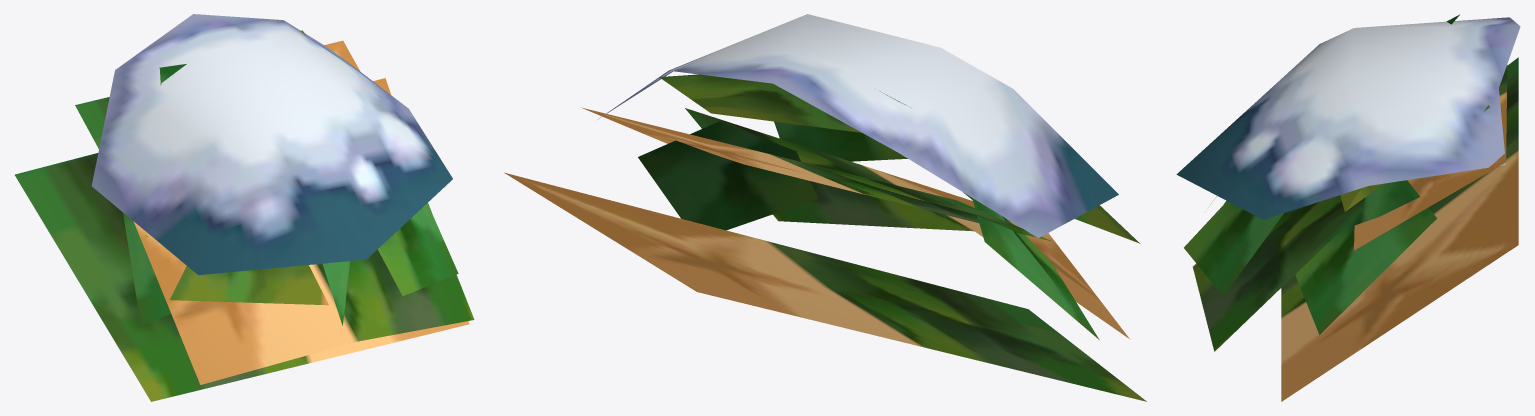
The model's file is fg_bushE_2_s.dae.
3 views of the same model, side by side, from view 1: azimuth 30°, elevation 25°; view 2: azimuth 150°, elevation 25°; view 3: azimuth 270°, elevation 25° (orthographic). The views are drawn at different scales.
Parts seen in each view (by area): view 1: fg_bushE_2_s; view 2: fg_bushE_2_s; view 3: fg_bushE_2_s.
Part boxes in pixels (x1,y1,x2,y2): fg_bushE_2_s: [15, 14, 474, 401]; fg_bushE_2_s: [504, 14, 1146, 401]; fg_bushE_2_s: [1176, 14, 1520, 401].
Size of the model in its own units: 50.84 by 35.23 by 38.03.
Materials: 1 (1 with a texture image).
